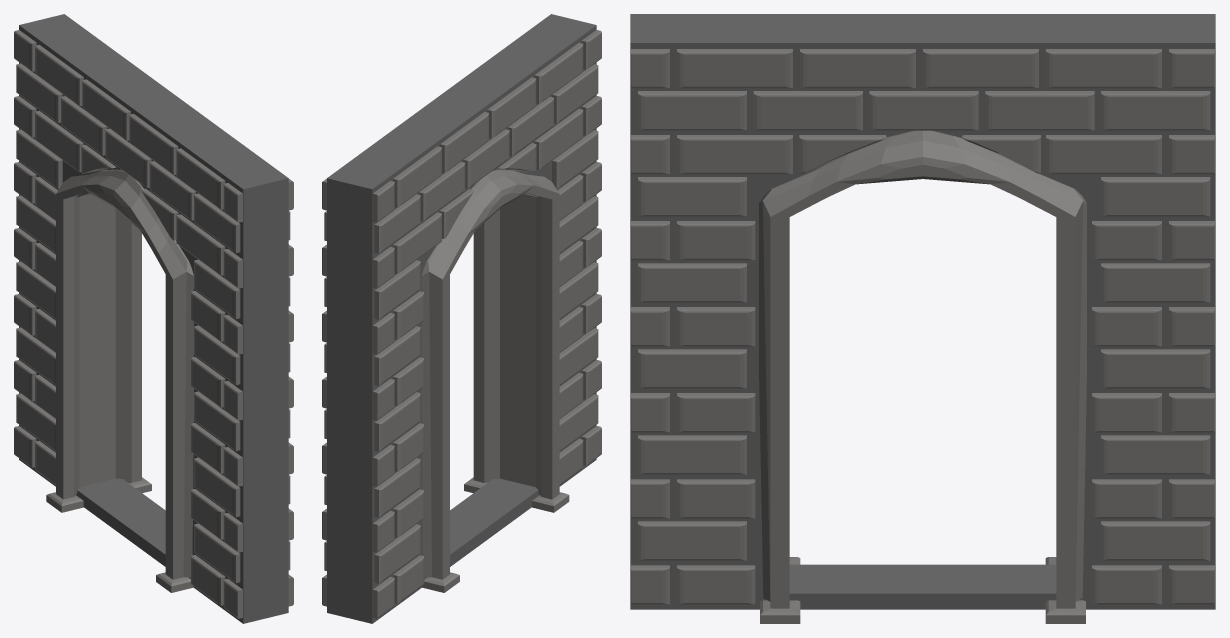
File: broken_FlaskSquare.fbx_floor3.fbx_archways.fbx
The picture shows the model from 3 angles, left to right: view 1: azimuth 30°, elevation 25°; view 2: azimuth 150°, elevation 25°; view 3: azimuth 270°, elevation 25°; orthographic projection. The views are drawn at different scales.
Visible parts, largest first — view 1: Cube.004; view 2: Cube.004; view 3: Cube.004.
Part boxes in pixels (bbox=[...]): Cube.004: bbox=[14, 14, 293, 623]; Cube.004: bbox=[322, 14, 601, 623]; Cube.004: bbox=[630, 14, 1215, 623].
Bounding box in the file's own units: 42.73 × 197 × 184.
